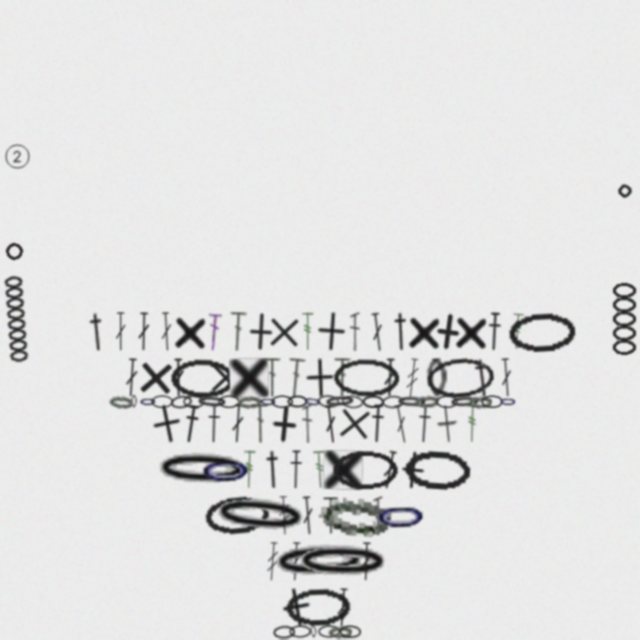chain: (210, 492, 311, 539), (270, 540, 369, 583), (153, 449, 252, 490), (294, 542, 392, 582), (318, 494, 392, 538), (425, 355, 495, 400), (203, 493, 272, 538), (403, 448, 471, 491), (507, 311, 576, 353), (285, 587, 352, 628), (170, 358, 236, 398), (333, 358, 399, 398), (332, 450, 399, 489), (374, 496, 428, 536), (199, 450, 253, 490), (426, 358, 448, 398), (324, 394, 356, 409), (196, 395, 228, 409), (396, 395, 428, 409), (449, 395, 481, 409), (414, 394, 439, 409), (170, 394, 193, 410), (317, 394, 340, 409), (328, 625, 352, 639), (109, 395, 133, 409), (237, 395, 261, 409), (468, 395, 492, 409), (341, 395, 364, 409), (273, 625, 295, 639), (382, 395, 404, 409), (289, 625, 311, 638), (318, 625, 340, 638), (339, 625, 361, 638), (151, 395, 173, 408), (183, 395, 205, 408), (218, 395, 240, 408), (271, 395, 293, 408), (362, 395, 384, 408), (436, 395, 458, 408), (481, 395, 503, 408), (303, 394, 322, 409), (287, 395, 308, 408), (139, 395, 157, 408), (259, 395, 277, 408), (499, 395, 517, 408), (310, 625, 317, 638), (131, 395, 137, 408)
double: (391, 404, 411, 444), (286, 358, 306, 398), (380, 450, 399, 490), (229, 312, 247, 351), (322, 404, 339, 444), (369, 312, 386, 352), (252, 404, 269, 443), (264, 358, 281, 397), (334, 358, 351, 397), (300, 496, 316, 535), (323, 496, 339, 535), (206, 312, 222, 351), (335, 588, 350, 627), (288, 542, 303, 581), (230, 404, 245, 443), (124, 358, 139, 397), (499, 358, 514, 397), (159, 312, 174, 351), (359, 542, 373, 581), (383, 358, 397, 397), (172, 358, 185, 397), (114, 312, 127, 351), (137, 312, 150, 351), (302, 404, 313, 443), (373, 496, 383, 535), (350, 312, 360, 351)
enseble_chain: (2, 275, 30, 364), (610, 282, 638, 357)
half_double: (470, 358, 495, 398), (85, 312, 109, 352), (262, 450, 284, 489), (390, 312, 412, 351), (181, 404, 201, 444), (369, 404, 386, 443), (416, 404, 433, 443), (486, 312, 503, 351), (288, 450, 304, 489), (206, 404, 222, 443)
noise: (3, 142, 31, 170), (4, 241, 25, 262), (616, 182, 633, 199)
single: (333, 402, 376, 445), (426, 310, 469, 353), (392, 449, 434, 491), (263, 403, 305, 445), (135, 357, 176, 398), (240, 311, 281, 352), (148, 402, 185, 446), (323, 450, 363, 490), (229, 358, 269, 398), (264, 312, 304, 352), (278, 586, 314, 629), (206, 358, 245, 397), (172, 312, 209, 352), (406, 312, 443, 352), (453, 312, 490, 352), (315, 311, 347, 352), (304, 358, 335, 398), (436, 404, 459, 444)
treble: (404, 358, 421, 398), (312, 450, 328, 489), (265, 542, 280, 581), (510, 312, 525, 351), (277, 496, 291, 535), (242, 450, 256, 489), (465, 404, 479, 443), (301, 312, 314, 351)
